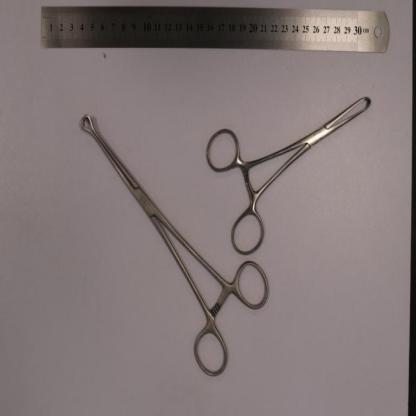8 Babcock Tissue Forceps: (80, 111, 272, 379)
Allis Tissue Forceps: (204, 94, 372, 257)
